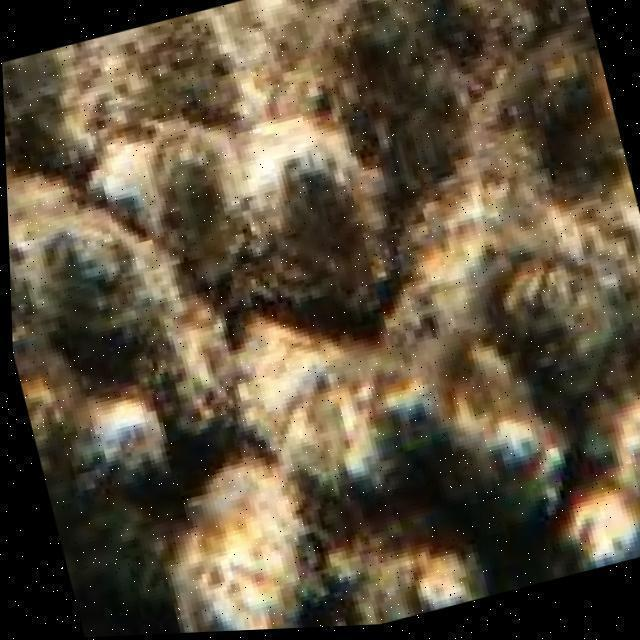Dead Coral: (0, 53, 640, 584)
